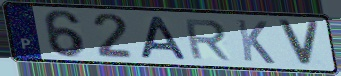2: (91, 12, 136, 61)
6: (42, 8, 88, 59)
A: (139, 15, 191, 62)
K: (234, 17, 277, 66)
R: (182, 18, 233, 62)
V: (275, 18, 322, 68)
